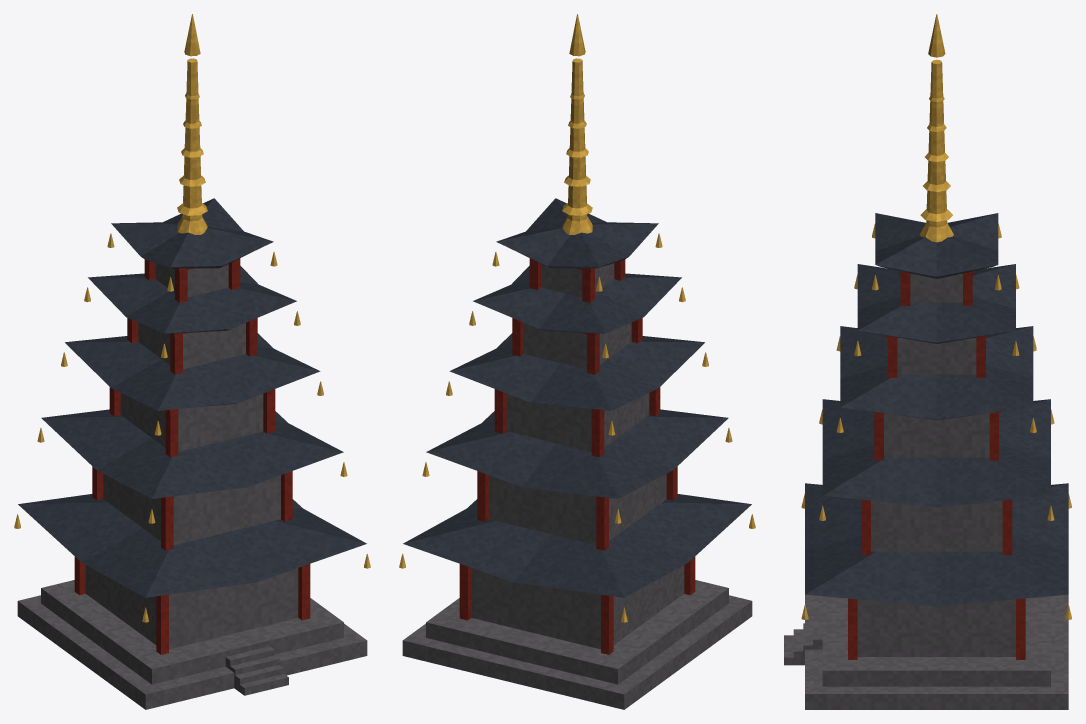
The model's file is Summit_Temple_Pagoda.glb.
The picture shows the model from 3 angles, left to right: view 1: azimuth 30°, elevation 25°; view 2: azimuth 150°, elevation 25°; view 3: azimuth 270°, elevation 25°; orthographic projection. The views are drawn at different scales.
Parts seen in each view (by area): view 1: Summit_Temple_Pagoda__Roof, Summit_Temple_Pagoda__Stone, Summit_Temple_Pagoda__Timber, Summit_Temple_Pagoda__Bronze; view 2: Summit_Temple_Pagoda__Roof, Summit_Temple_Pagoda__Stone, Summit_Temple_Pagoda__Timber, Summit_Temple_Pagoda__Bronze; view 3: Summit_Temple_Pagoda__Roof, Summit_Temple_Pagoda__Stone, Summit_Temple_Pagoda__Timber, Summit_Temple_Pagoda__Bronze.
Boxes of the visible parts, <box> form: Summit_Temple_Pagoda__Roof: <box>18,198,366,597</box>; Summit_Temple_Pagoda__Stone: <box>17,263,367,709</box>; Summit_Temple_Pagoda__Timber: <box>74,258,310,654</box>; Summit_Temple_Pagoda__Bronze: <box>14,14,370,622</box>; Summit_Temple_Pagoda__Roof: <box>403,198,751,597</box>; Summit_Temple_Pagoda__Stone: <box>402,263,752,709</box>; Summit_Temple_Pagoda__Timber: <box>459,258,695,654</box>; Summit_Temple_Pagoda__Bronze: <box>399,14,755,622</box>; Summit_Temple_Pagoda__Roof: <box>805,213,1068,606</box>; Summit_Temple_Pagoda__Stone: <box>784,274,1068,709</box>; Summit_Temple_Pagoda__Timber: <box>848,271,1025,659</box>; Summit_Temple_Pagoda__Bronze: <box>801,14,1071,619</box>.
Size of the model in its own units: 61.8 by 161 by 65.58.
4 materials, 4 textured.
